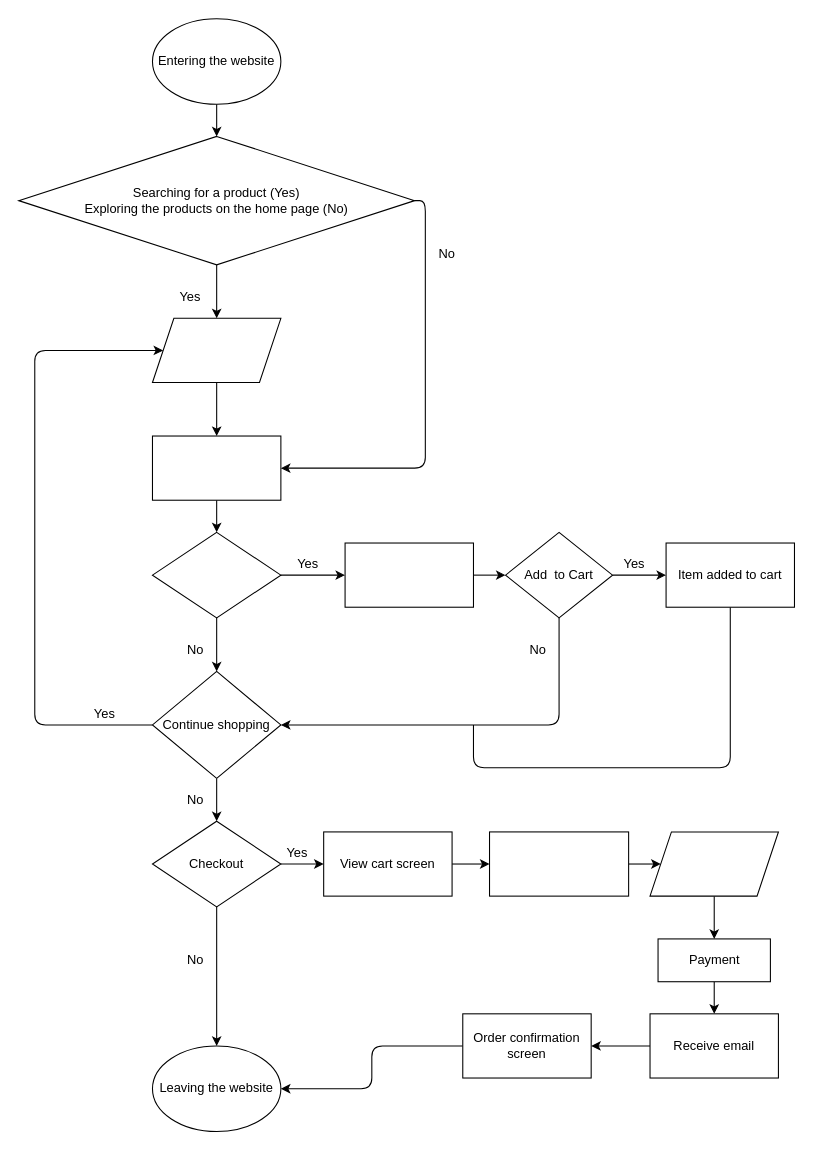
Image size: 813x1150. Some labels were removed from this diagram. Each missing label, with the centre of its shape:
Input payment information: the point at 713,863
Open Product webpage: the point at 408,574
User input the product to search: the point at 216,350
User look over the product: the point at 216,467
View a specific product: the point at 216,574
View payment screen: the point at 558,863
